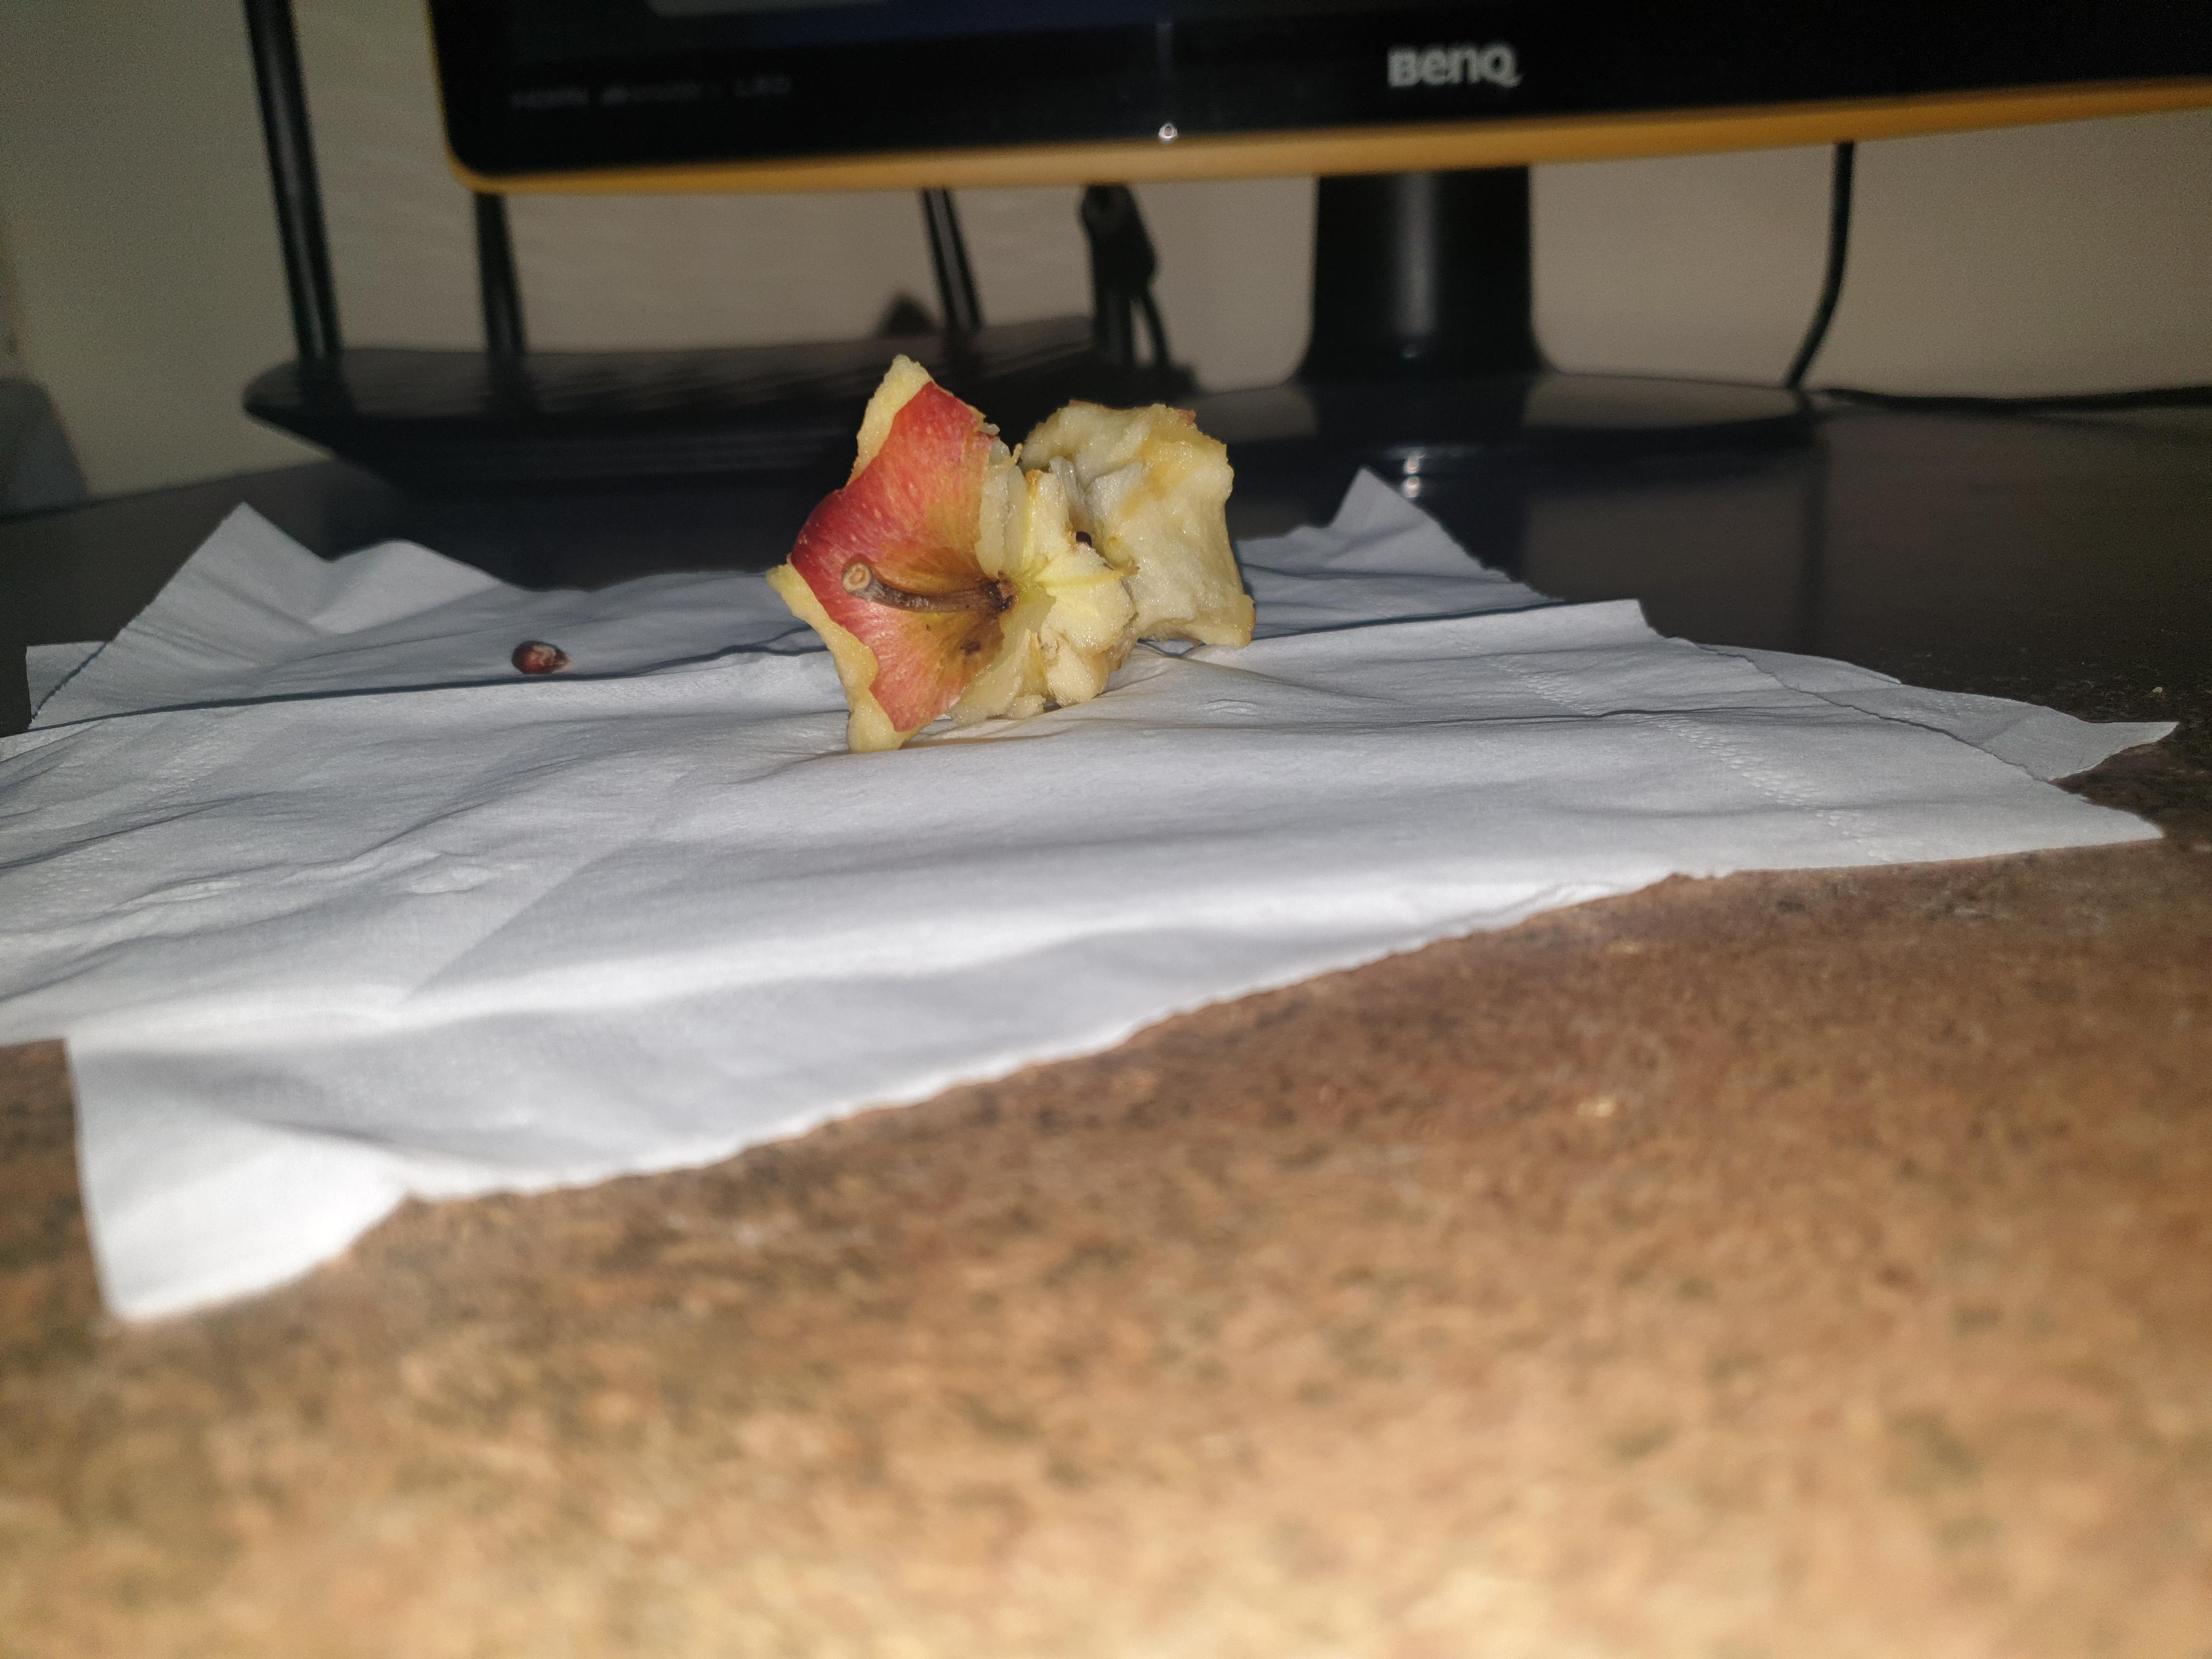Apple: (752, 333, 1305, 756)
